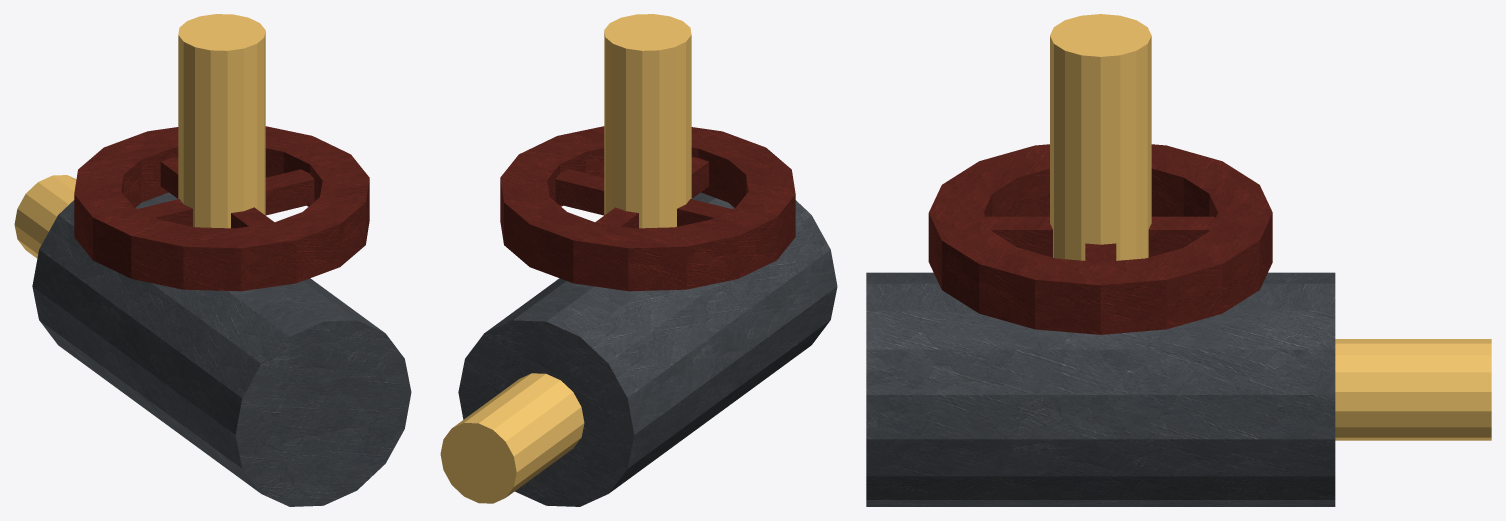
File: train_steam_valve.gltf
3 views of the same model, side by side, from view 1: azimuth 30°, elevation 25°; view 2: azimuth 150°, elevation 25°; view 3: azimuth 270°, elevation 25° (orthographic). The views are drawn at different scales.
Bounding box in the file's own units: 0.44 × 0.65 × 0.8.
Materials: 3 (2 with a texture image).
